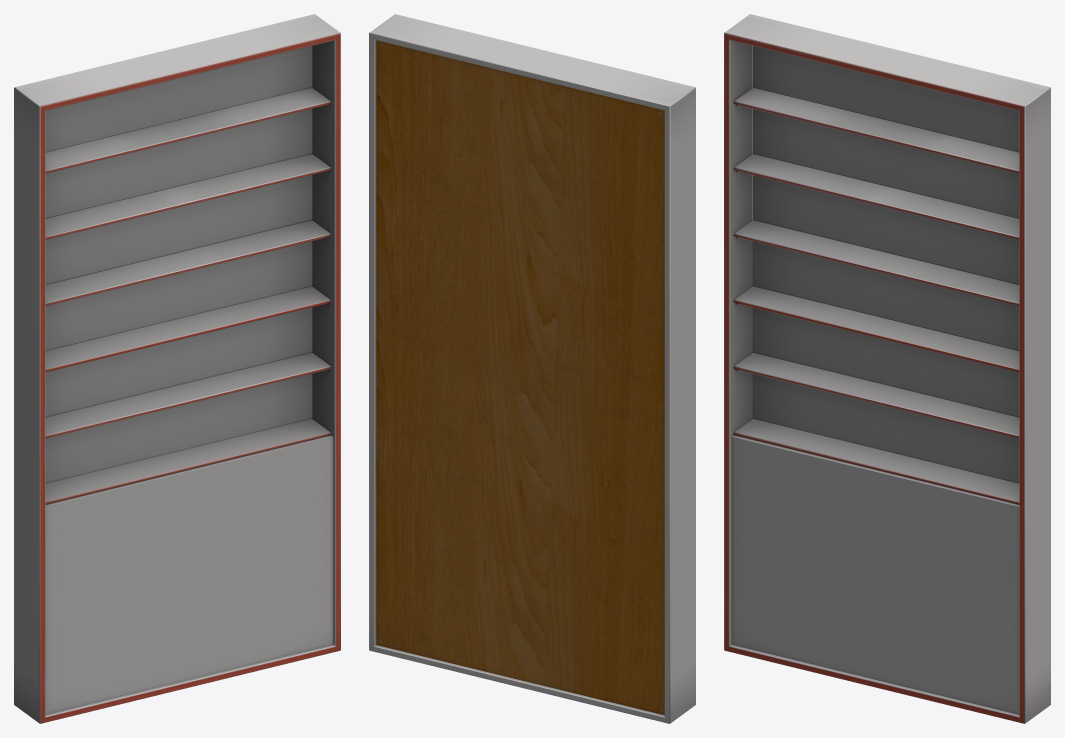
File: video_store_shelf_archive.fbx
The picture shows the model from 3 angles, left to right: view 1: azimuth 30°, elevation 25°; view 2: azimuth 150°, elevation 25°; view 3: azimuth 330°, elevation 25°; orthographic projection.
Visible parts, largest first — view 1: Mesh9_Group13_Group1_Model; view 2: Mesh9_Group13_Group1_Model; view 3: Mesh9_Group13_Group1_Model.
Boxes of the visible parts, <box> form: Mesh9_Group13_Group1_Model: <box>14,14,340,723</box>; Mesh9_Group13_Group1_Model: <box>369,14,695,723</box>; Mesh9_Group13_Group1_Model: <box>724,14,1050,723</box>.
Bounding box in the file's own units: 100 × 196 × 15.
1 material, 1 textured.
